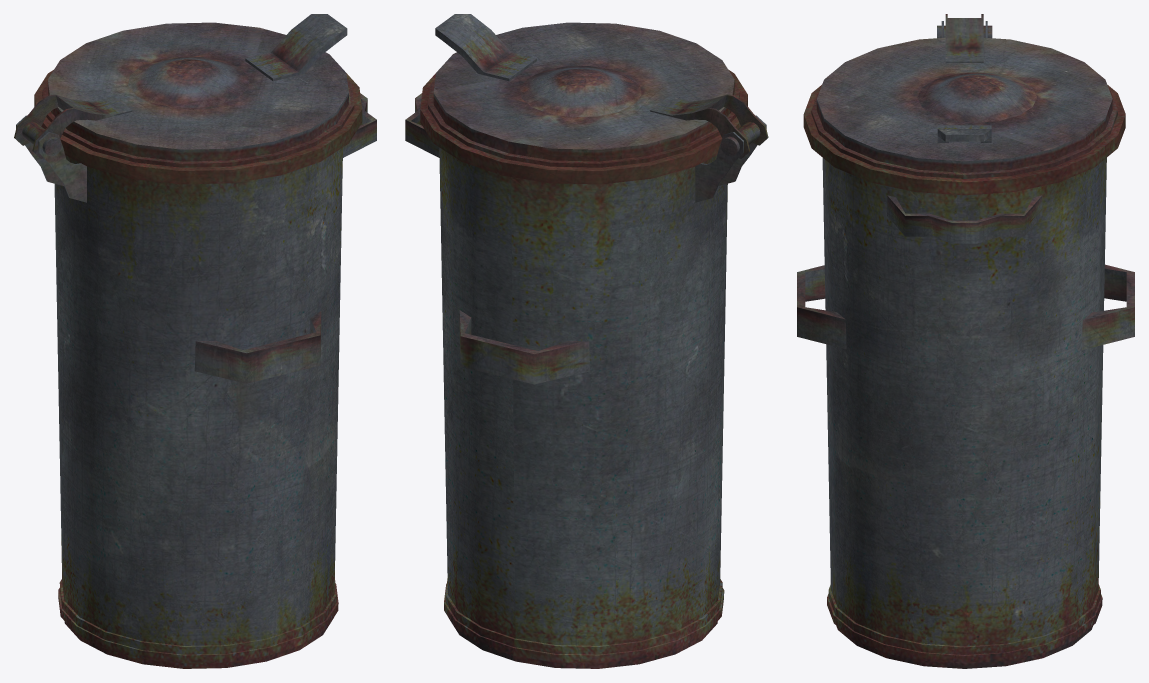
Rendered from Trash Can.fbx.
The picture shows the model from 3 angles, left to right: view 1: azimuth 30°, elevation 25°; view 2: azimuth 150°, elevation 25°; view 3: azimuth 270°, elevation 25°; orthographic projection. The views are drawn at different scales.
Parts seen in each view (by area): view 1: pCylinder1; view 2: pCylinder1; view 3: pCylinder1.
Part boxes in pixels (x1,y1,x2,y2): pCylinder1: (14, 14, 376, 668); pCylinder1: (405, 14, 768, 668); pCylinder1: (797, 14, 1134, 668).
Size of the model in its own units: 67.5 by 106 by 59.77.
1 material, 1 textured.
